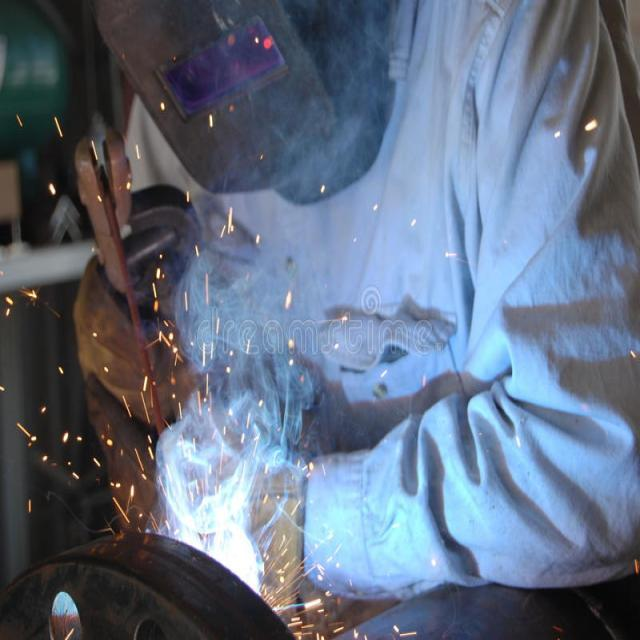with_helmet: (96, 0, 393, 203)
